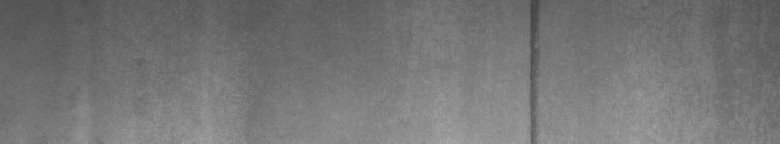hd: (524, 4, 544, 136)
